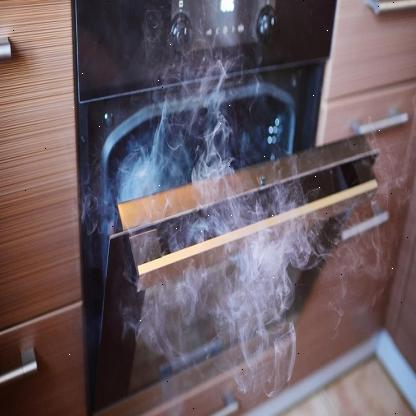smoke: (92, 44, 416, 397)
